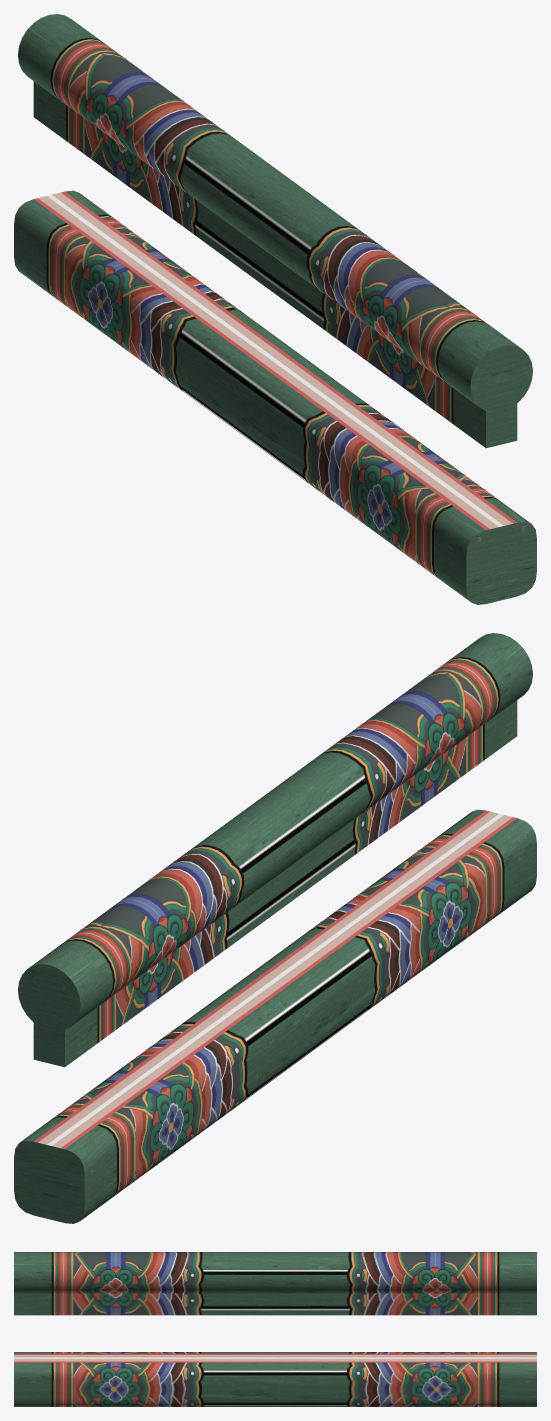
Rendered from SM_CGJ_Purlin03d.fbx.
The picture shows the model from 3 angles, top to bottom: view 1: azimuth 30°, elevation 25°; view 2: azimuth 150°, elevation 25°; view 3: azimuth 270°, elevation 25°; orthographic projection. The views are drawn at different scales.
Visible parts, largest first — view 1: SM_CGJ_Purlin03d; view 2: SM_CGJ_Purlin03d; view 3: SM_CGJ_Purlin03d.
Boxes of the visible parts, <box> form: SM_CGJ_Purlin03d: <box>14,14,536,604</box>; SM_CGJ_Purlin03d: <box>14,633,536,1223</box>; SM_CGJ_Purlin03d: <box>14,1252,536,1406</box>.
Bounding box in the file's own units: 22.5 × 250 × 77.5.
Materials: 1 (1 with a texture image).
